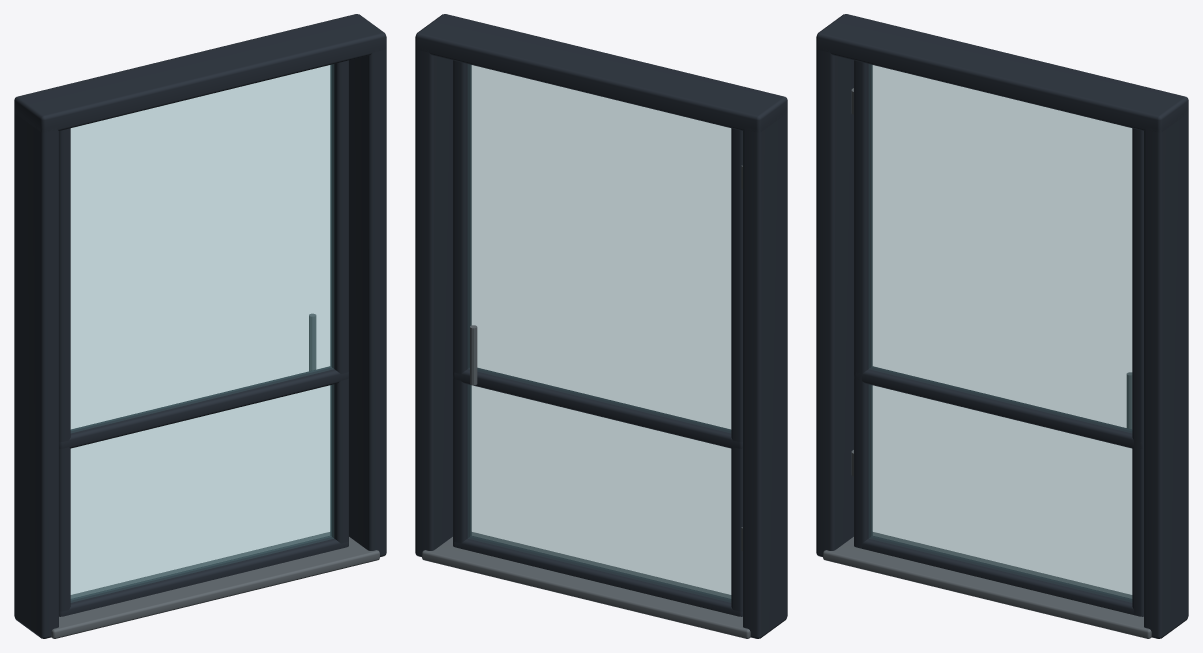
The model's file is front-glass-door.glb.
3 views of the same model, side by side, from view 1: azimuth 30°, elevation 25°; view 2: azimuth 150°, elevation 25°; view 3: azimuth 330°, elevation 25° (orthographic).
Visible parts, largest first — view 1: door glass, shell-navy, leaf stile.001, shell-metal, leaf stile, leaf rail.001, leaf rail; view 2: door glass, shell-navy, leaf stile.001, shell-metal, leaf stile, leaf rail.001, leaf rail; view 3: door glass, shell-navy, leaf stile, shell-metal, leaf stile.001, leaf rail.001, leaf rail.
Part boxes in pixels (bbox=[...]): door glass: bbox=[71, 64, 333, 602]; shell-navy: bbox=[14, 14, 386, 638]; leaf stile.001: bbox=[330, 60, 348, 547]; shell-metal: bbox=[51, 532, 379, 638]; leaf stile: bbox=[59, 128, 70, 611]; leaf rail.001: bbox=[59, 366, 348, 448]; leaf rail: bbox=[59, 536, 348, 616]; door glass: bbox=[468, 64, 730, 602]; shell-navy: bbox=[415, 14, 787, 638]; leaf stile.001: bbox=[453, 60, 471, 547]; shell-metal: bbox=[422, 532, 750, 638]; leaf stile: bbox=[731, 128, 742, 611]; leaf rail.001: bbox=[453, 367, 742, 448]; leaf rail: bbox=[453, 536, 742, 616]; door glass: bbox=[869, 64, 1131, 602]; shell-navy: bbox=[816, 14, 1188, 638]; leaf stile: bbox=[854, 60, 872, 548]; shell-metal: bbox=[823, 532, 1151, 638]; leaf stile.001: bbox=[1132, 128, 1143, 616]; leaf rail.001: bbox=[854, 366, 1142, 448]; leaf rail: bbox=[854, 536, 1143, 616].
Size of the model in its own units: 1.9 by 2.75 by 0.32.
